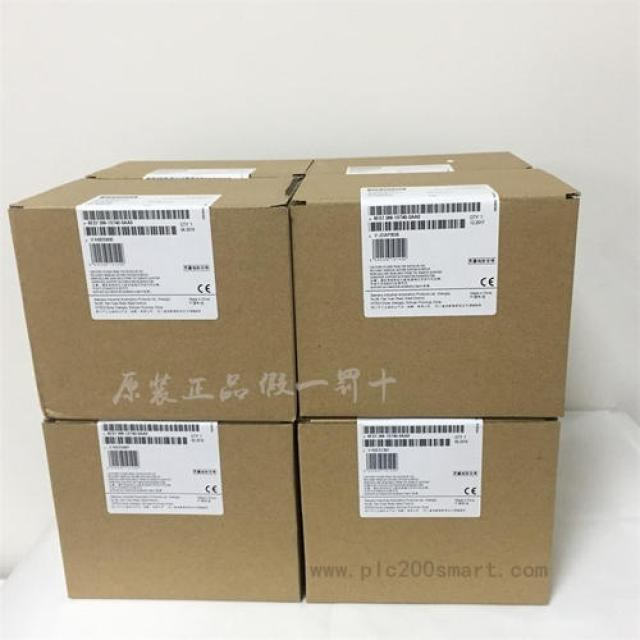box: (6, 175, 302, 422), (290, 168, 578, 420), (296, 419, 558, 605), (44, 423, 302, 601), (304, 150, 533, 176), (84, 159, 314, 177)
